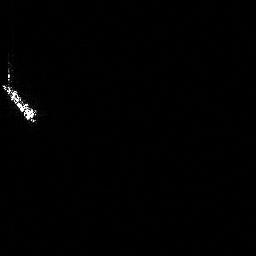ship: (1, 81, 40, 125)
